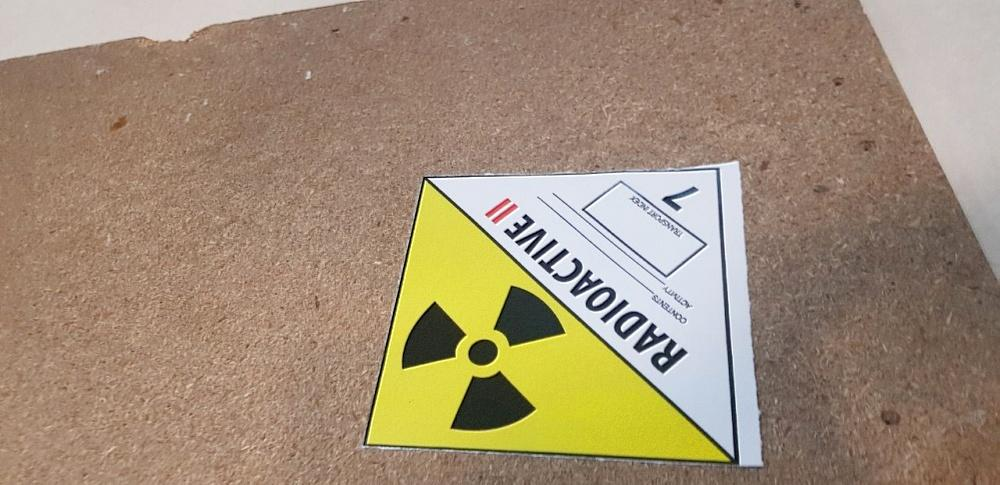radioactive: (362, 162, 764, 465)
